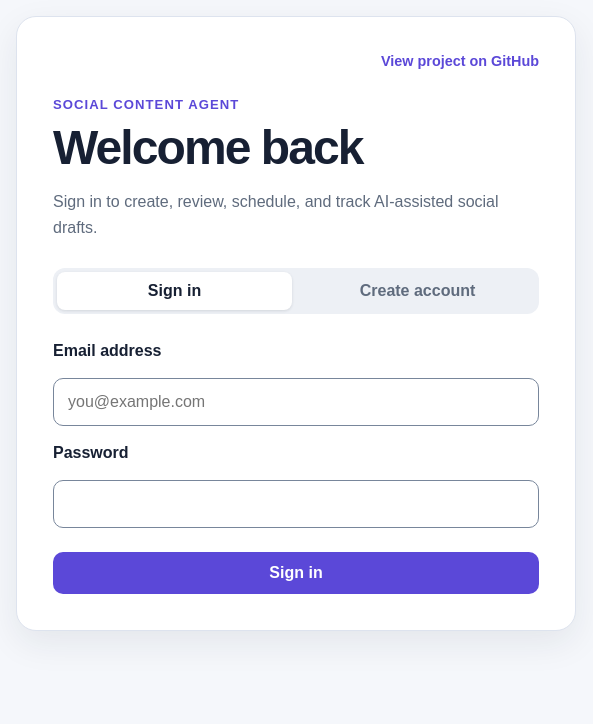
announces authentication errors and allows retrying
This screenshot has width=593, height=724.
Type "tester@example.com" into the field labelled "Email address".
click(296, 402); type("tester@example.com")  # box [53,378,539,426]
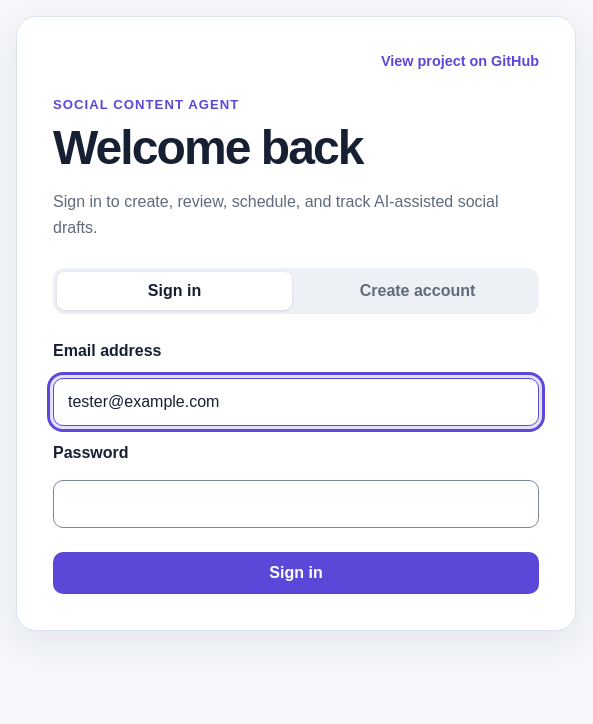
Type "test-password" into the password field labelled "Password".
click(296, 504); type("test-password")  # box [53,480,539,528]
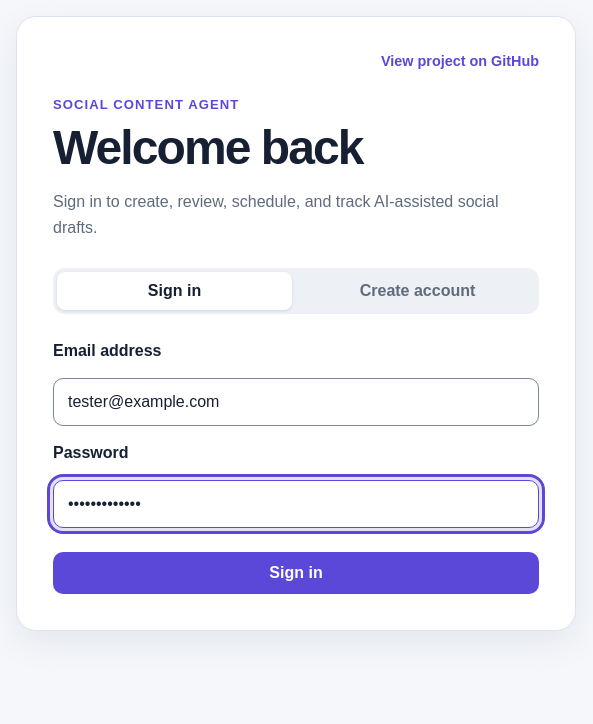
Click the button "Sign in".
click(296, 573)  # box [53,552,539,594]
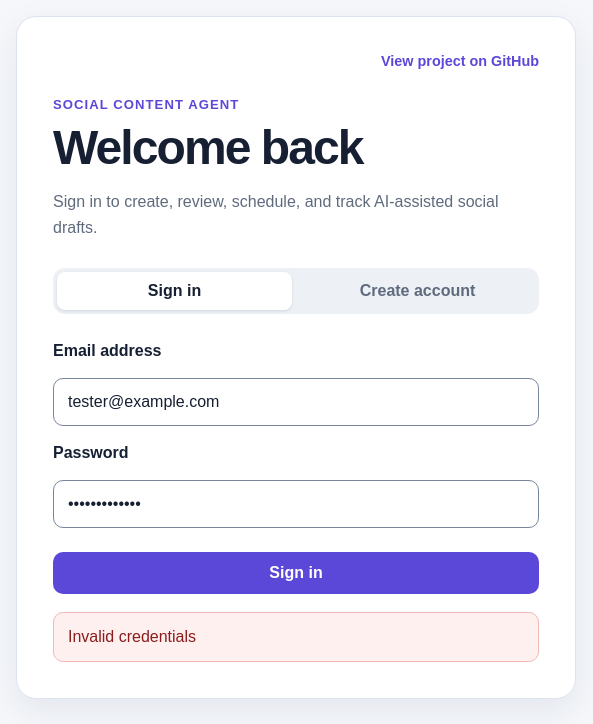
Result: the message reads "Invalid credentials" at [68,628,196,645]
